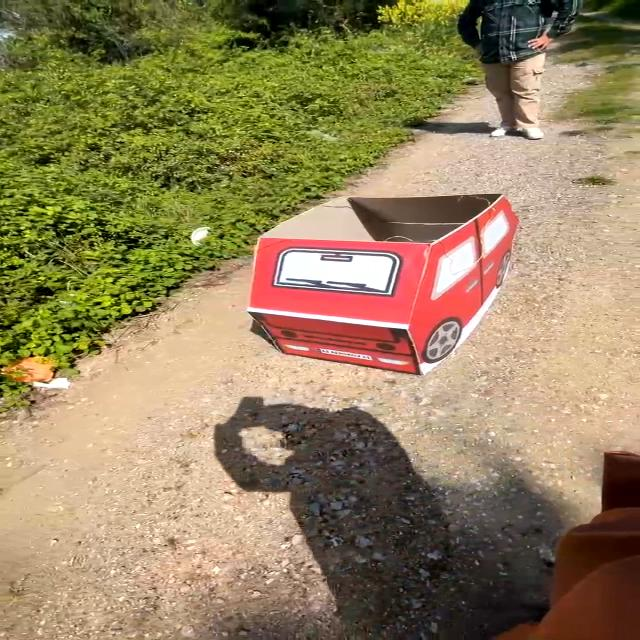red_car: (231, 178, 540, 396)
